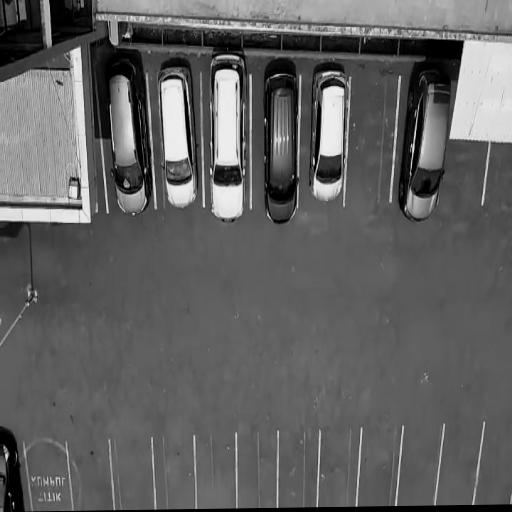Car: (393, 61, 453, 224), (105, 59, 155, 218), (207, 49, 248, 231), (258, 66, 301, 236), (158, 58, 202, 215), (308, 61, 346, 210)
Space Available: (349, 73, 392, 206), (238, 432, 276, 508), (359, 433, 398, 505), (278, 435, 316, 508), (198, 435, 235, 509), (443, 139, 482, 205), (320, 435, 356, 506), (73, 442, 109, 511), (401, 437, 438, 504), (116, 441, 152, 509), (157, 444, 195, 508), (440, 439, 476, 505), (478, 437, 512, 504), (32, 442, 65, 510), (487, 144, 512, 207)
